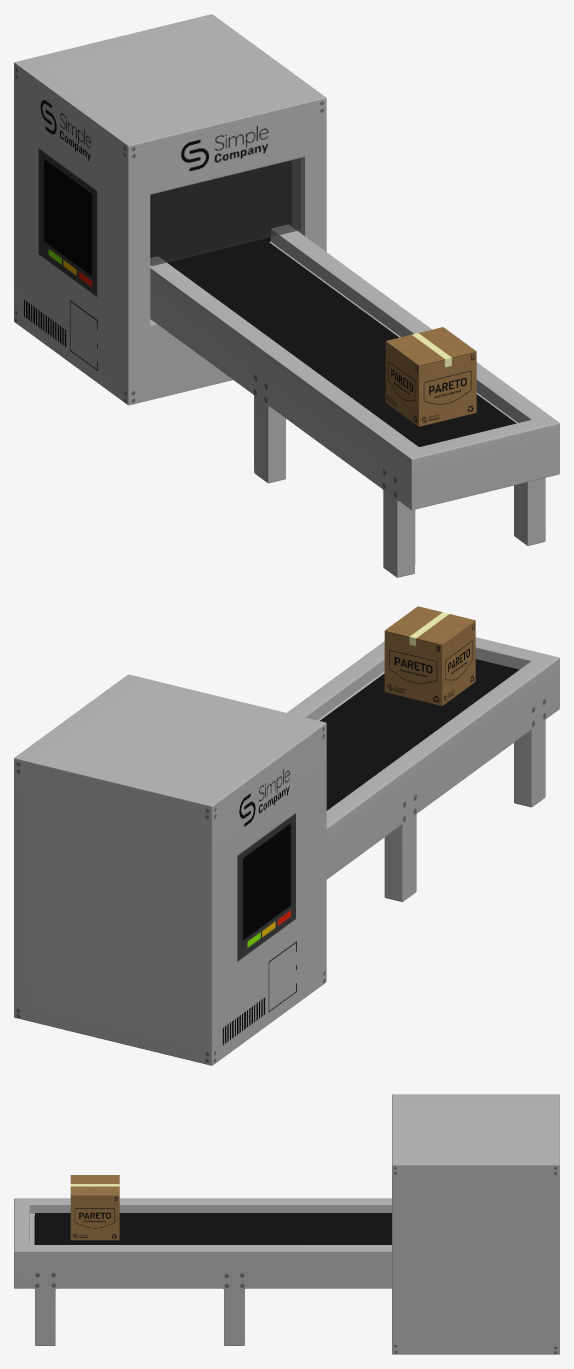
The model's file is Transportadora.glb.
3 views of the same model, one above another, from view 1: azimuth 30°, elevation 25°; view 2: azimuth 150°, elevation 25°; view 3: azimuth 270°, elevation 25° (orthographic). The views are drawn at different scales.
Visible parts, largest first — view 1: Banda_transportadora, Caja.002; view 2: Banda_transportadora, Caja.002; view 3: Banda_transportadora, Caja.002.
Boxes of the visible parts, <box> form: Banda_transportadora: <box>14,14,559,577</box>; Caja.002: <box>385,327,476,426</box>; Banda_transportadora: <box>14,637,559,1065</box>; Caja.002: <box>384,606,475,705</box>; Banda_transportadora: <box>14,1094,559,1354</box>; Caja.002: <box>70,1175,119,1240</box>.
Bounding box in the file's own units: 9.61 × 12.02 × 31.25.
Materials: 5 (3 with a texture image).
